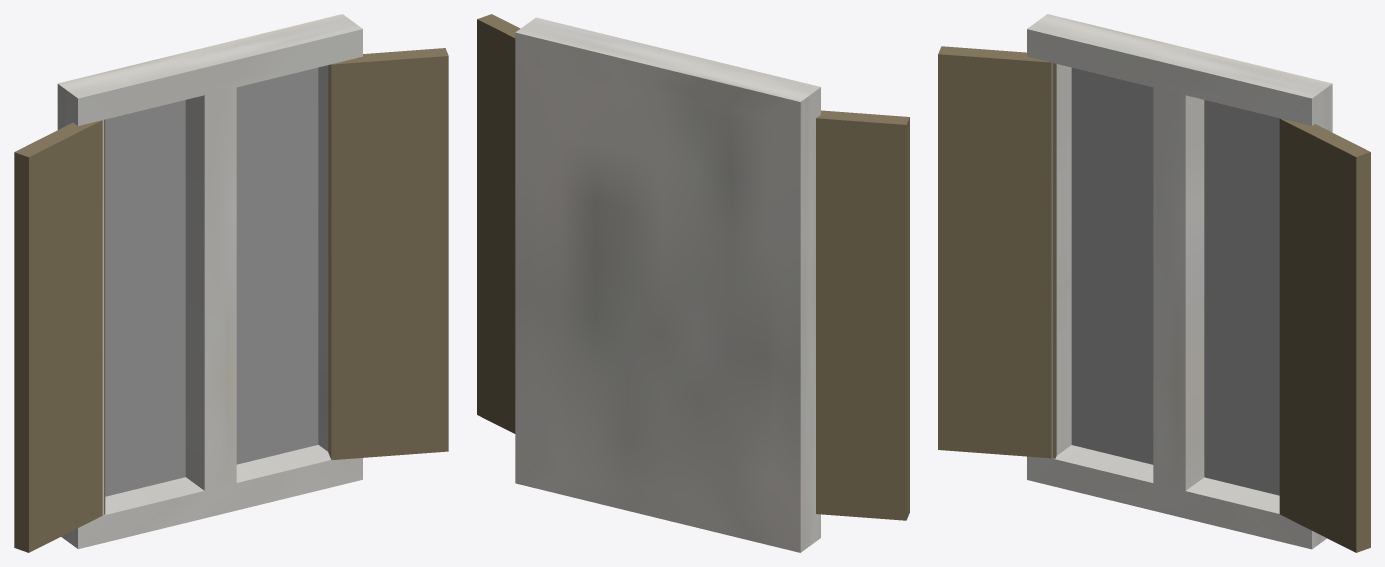
The model's file is obj_window_y2.fbx.
3 views of the same model, side by side, from view 1: azimuth 30°, elevation 25°; view 2: azimuth 150°, elevation 25°; view 3: azimuth 330°, elevation 25° (orthographic).
Parts seen in each view (by area): view 1: obj_window_y2; view 2: obj_window_y2; view 3: obj_window_y2.
Boxes of the visible parts, x1,y1,x2,y2 form: obj_window_y2: (14,14,448,552); obj_window_y2: (477,14,909,552); obj_window_y2: (938,14,1370,552).
Bounding box in the file's own units: 1.51 × 1.51 × 0.251.
2 materials, 1 textured.
